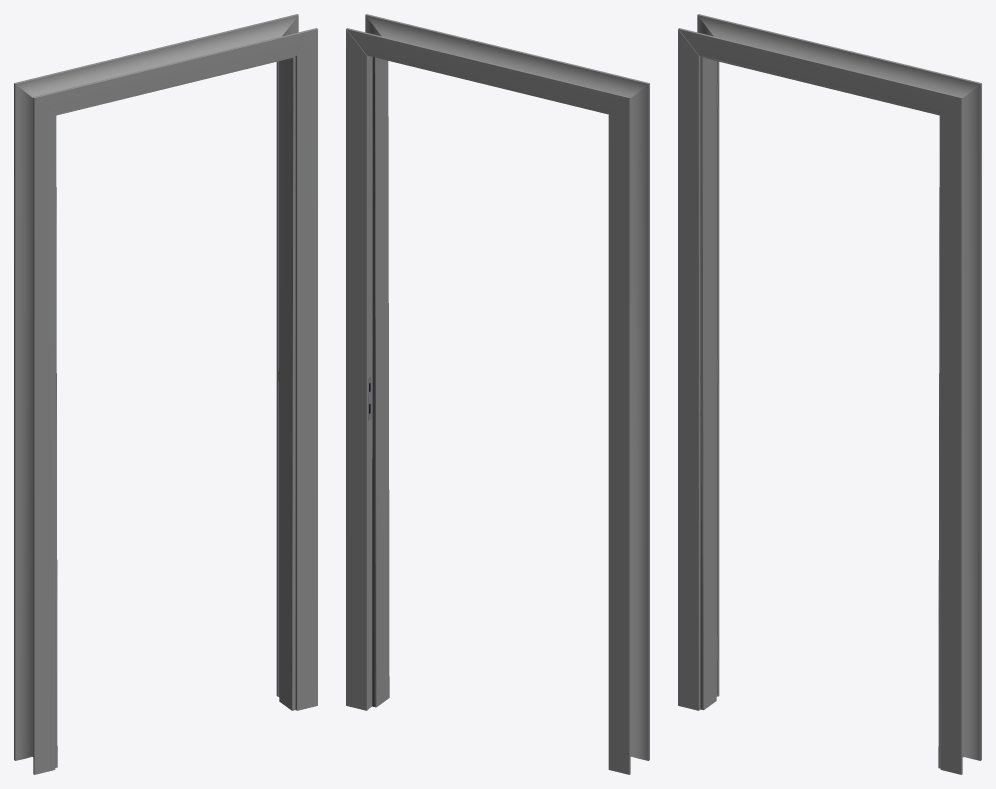
Rendered from tiang pintu 1.fbx.
The picture shows the model from 3 angles, left to right: view 1: azimuth 30°, elevation 25°; view 2: azimuth 150°, elevation 25°; view 3: azimuth 330°, elevation 25°; orthographic projection.
Visible parts, largest first — view 1: Cylinder.045; view 2: Cylinder.045; view 3: Cylinder.045.
Boxes of the visible parts, <box> form: Cylinder.045: <box>14,14,317,774</box>; Cylinder.045: <box>346,14,649,774</box>; Cylinder.045: <box>678,14,981,774</box>.
Bounding box in the file's own units: 93.52 × 213 × 11.68.
